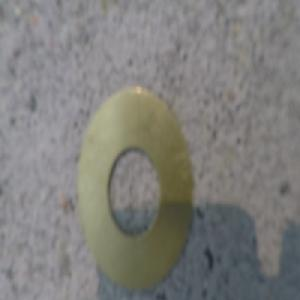Washer: (74, 85, 189, 285)
